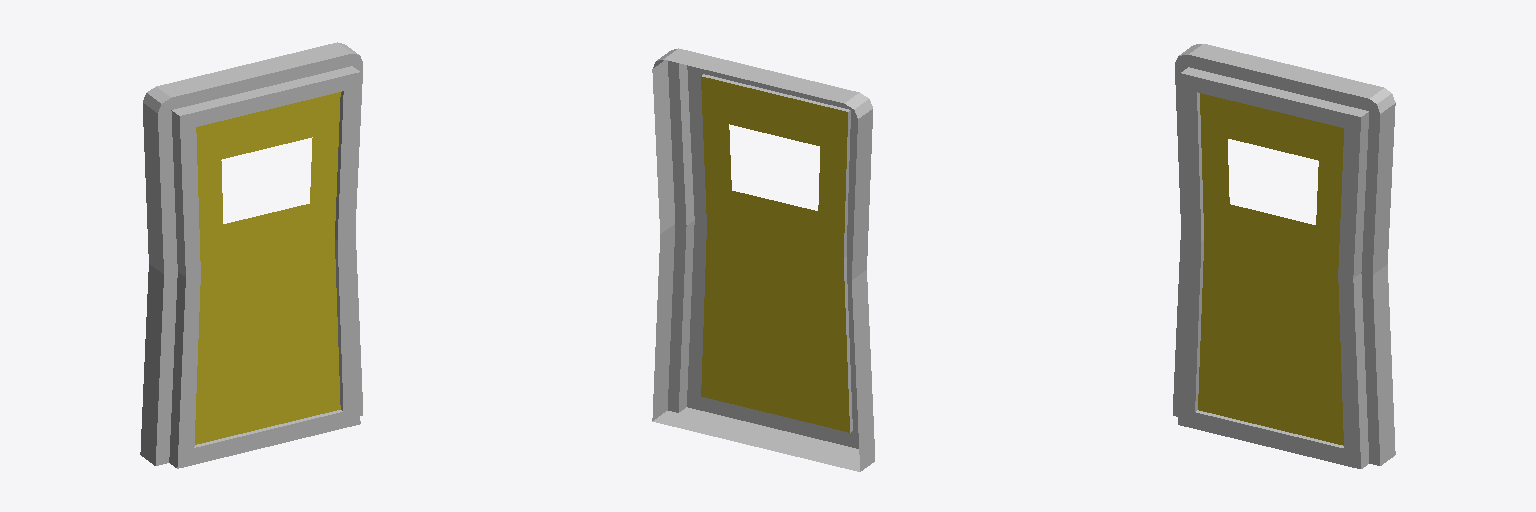
File: M_Door_01.obj
3 renders of one model, left to right at view 1: azimuth 30°, elevation 25°; view 2: azimuth 150°, elevation 25°; view 3: azimuth 330°, elevation 25°, orthographic.
Visible parts, largest first — view 1: Porte; view 2: Porte; view 3: Porte.
Part boxes in pixels (x1,y1,x2,y2): Porte: (140, 42, 362, 468); Porte: (652, 48, 874, 471); Porte: (1173, 44, 1395, 468).
Size of the model in its own units: 1.24 by 2.07 by 0.2408.